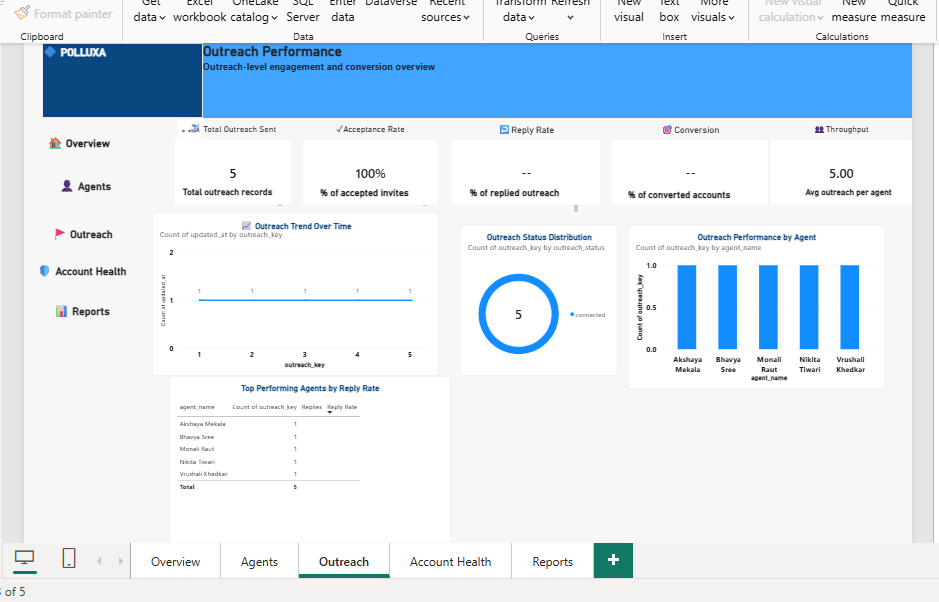

This screenshot's page, from the dashboard's own definition file:
{"tool":"powerbi","page":{"name":"Outreach","canvas":[1920,1080],"ordinal":2},"visuals":[{"type":"textbox","title":"🔷 POLLUXA","box":[38.9,0,347.8,162],"z":0},{"type":"textbox","title":"Outreach Performance","box":[386.6,0,1533.6,162],"z":1},{"type":"actionButton","title":"🏠 Overview","box":[10.8,196.6,213.8,49.7],"z":2},{"type":"actionButton","title":"👤 Agents","box":[51.8,289.4,159.8,41],"z":3},{"type":"actionButton","title":"🚩 Outreach","box":[45.4,393.1,159.8,41],"z":4},{"type":"actionButton","title":"🛡️ Account Health","box":[10.8,473,226.8,47.5],"z":5},{"type":"actionButton","title":"📊 Reports","box":[36.7,559.4,175,43.2],"z":6},{"type":"cardVisual","title":"✈️ Total Outreach Sent","fields":{"Data":["CountNonNull(fact_outreach.outreach_key)"]},"box":[321.8,170.6,257,181.4],"z":7},{"type":"textbox","title":"Total outreach records","box":[321.8,311,235.4,41],"z":8},{"type":"cardVisual","title":"✓Acceptance Rate","fields":{"Data":["dim_agent.Acceptance Rate"]},"box":[600.5,170.6,295.9,181.4],"z":9},{"type":"textbox","title":"% of accepted invites","box":[600.5,311,270,41],"z":10},{"type":"cardVisual","title":"↩️Reply Rate","fields":{"Data":["dim_agent.Reply Rate"]},"box":[922.3,170.6,324,181.4],"z":11},{"type":"textbox","title":"% of replied outreach","box":[922.3,311,274.3,54],"z":12},{"type":"cardVisual","title":"🎯Conversion","fields":{"Data":["dim_agent.Conversion"]},"box":[1267.9,170.6,341.3,181.4],"z":13},{"type":"textbox","title":"% of converted accounts","box":[1304.6,315.4,267.8,36.7],"z":14},{"type":"cardVisual","title":"👥Throughput","fields":{"Data":["dim_agent.Throughput"]},"box":[1609,171,311,181],"z":15},{"type":"textbox","title":"Avg outreach per agent","box":[1641.6,311,278.6,30.2],"z":16},{"type":"donutChart","title":"Outreach Status Distribution","fields":{"Category":["fact_outreach.outreach_status"],"Y":["CountNonNull(fact_outreach.outreach_key)"]},"box":[941.8,393.1,341.3,326.2],"z":17},{"type":"lineChart","title":"📈 Outreach Trend Over Time","fields":{"Category":["fact_outreach.outreach_key"],"Y":["CountNonNull(fact_outreach.updated_at)"]},"box":[276.5,365,619.9,354.2],"z":18},{"type":"clusteredColumnChart","title":"Outreach Performance by Agent","fields":{"Category":["dim_agent.agent_name"],"Y":["CountNonNull(fact_outreach.outreach_key)"]},"box":[1304.6,393.1,555.1,354.2],"z":19},{"type":"tableEx","title":"Top Performing Agents by Reply Rate","fields":{"Values":["dim_agent.agent_name","CountNonNull(fact_outreach.outreach_key)","dim_agent.Replies","dim_agent.Reply Rate"]},"box":[313.2,719.3,609.1,360.7],"z":20},{"type":"actionButton","box":[0,0,100,40],"z":21}]}

Visuals, with their boxes on the page's 1920x1080 design canvas (x1, y1, x2, y2). These are canvas units, not pixel positions in the 939x602 screenshot, which may show the page scaled, cropped or inside an application window:
"🔷 POLLUXA" textbox: 39/0/387/162
"Outreach Performance" textbox: 387/0/1920/162
"🏠 Overview" actionButton: 11/197/225/246
"👤 Agents" actionButton: 52/289/212/330
"🚩 Outreach" actionButton: 45/393/205/434
"🛡️ Account Health" actionButton: 11/473/238/520
"📊 Reports" actionButton: 37/559/212/603
"✈️ Total Outreach Sent" cardVisual: 322/171/579/352
"Total outreach records" textbox: 322/311/557/352
"✓Acceptance Rate" cardVisual: 600/171/896/352
"% of accepted invites" textbox: 600/311/870/352
"↩️Reply Rate" cardVisual: 922/171/1246/352
"% of replied outreach" textbox: 922/311/1197/365
"🎯Conversion" cardVisual: 1268/171/1609/352
"% of converted accounts" textbox: 1305/315/1572/352
"👥Throughput" cardVisual: 1609/171/1920/352
"Avg outreach per agent" textbox: 1642/311/1920/341
"Outreach Status Distribution" donutChart: 942/393/1283/719
"📈 Outreach Trend Over Time" lineChart: 276/365/896/719
"Outreach Performance by Agent" clusteredColumnChart: 1305/393/1860/747
"Top Performing Agents by Reply Rate" tableEx: 313/719/922/1080
actionButton: 0/0/100/40
